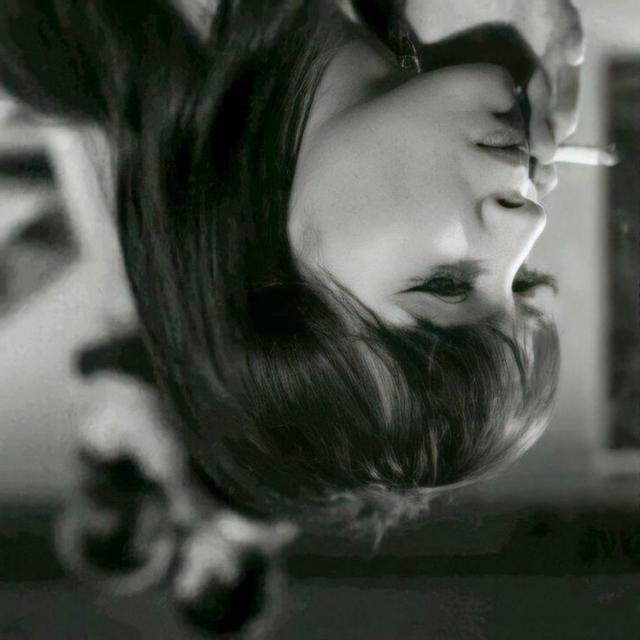cigarette: (500, 122, 626, 192)
